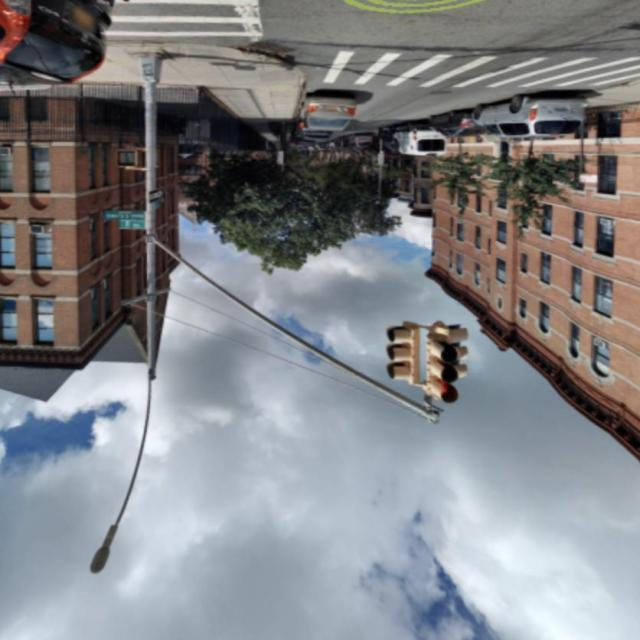off: (50, 208, 170, 628)
